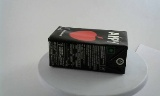appy: (43, 26, 121, 75)
